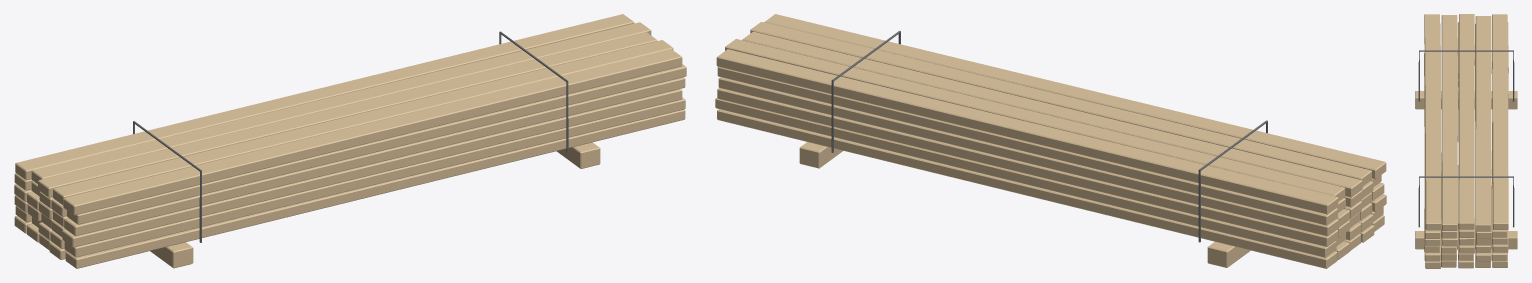
3 views of the same model, side by side, from view 1: azimuth 30°, elevation 25°; view 2: azimuth 150°, elevation 25°; view 3: azimuth 270°, elevation 25° (orthographic). The views are drawn at different scales.
Visible parts, largest first — view 1: timber-length-bundle; view 2: timber-length-bundle; view 3: timber-length-bundle.
Part boxes in pixels (x1,y1,x2,y2): timber-length-bundle: (14,14,686,268); timber-length-bundle: (715,14,1386,268); timber-length-bundle: (1415,14,1517,268).
Size of the model in its own units: 3.02 by 0.4194 by 0.6199.
